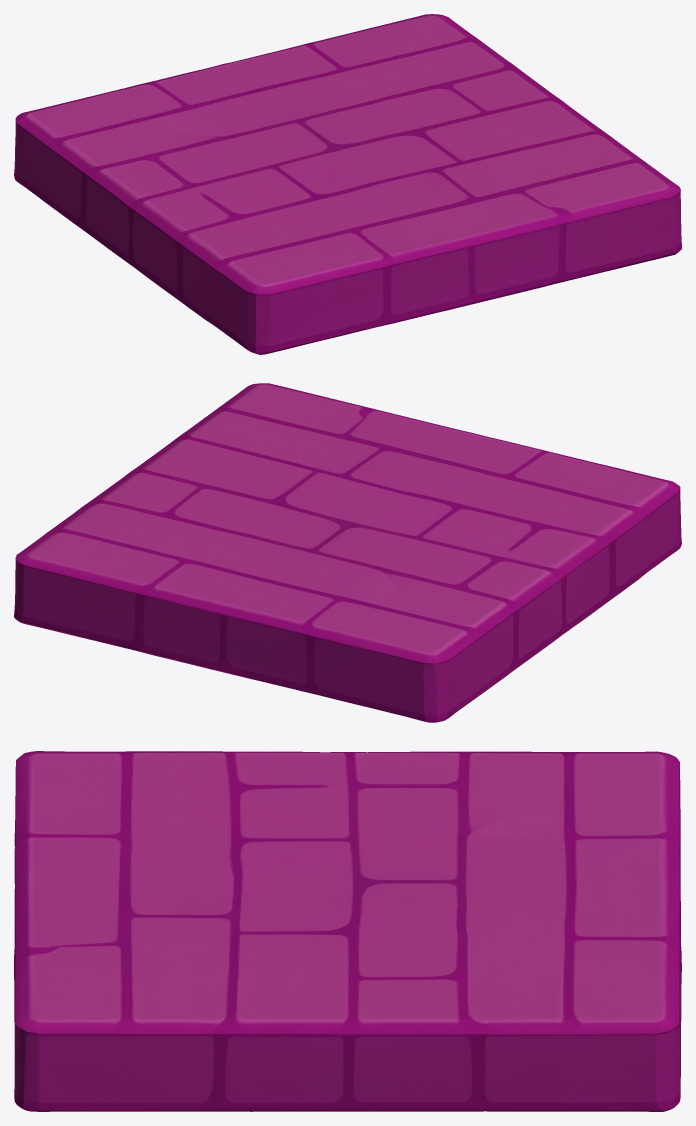
3 renders of one model, top to bottom at view 1: azimuth 30°, elevation 25°; view 2: azimuth 150°, elevation 25°; view 3: azimuth 270°, elevation 25°, orthographic. The views are drawn at different scales.
Visible parts, largest first — view 1: world; view 2: world; view 3: world.
Boxes of the visible parts, left/top/right/bottom form: world: left=14, top=14, right=681, bottom=354; world: left=14, top=383, right=681, bottom=722; world: left=14, top=751, right=681, bottom=1111.
Size of the model in its own units: 99.98 by 15.05 by 99.6.
1 material, 1 textured.
